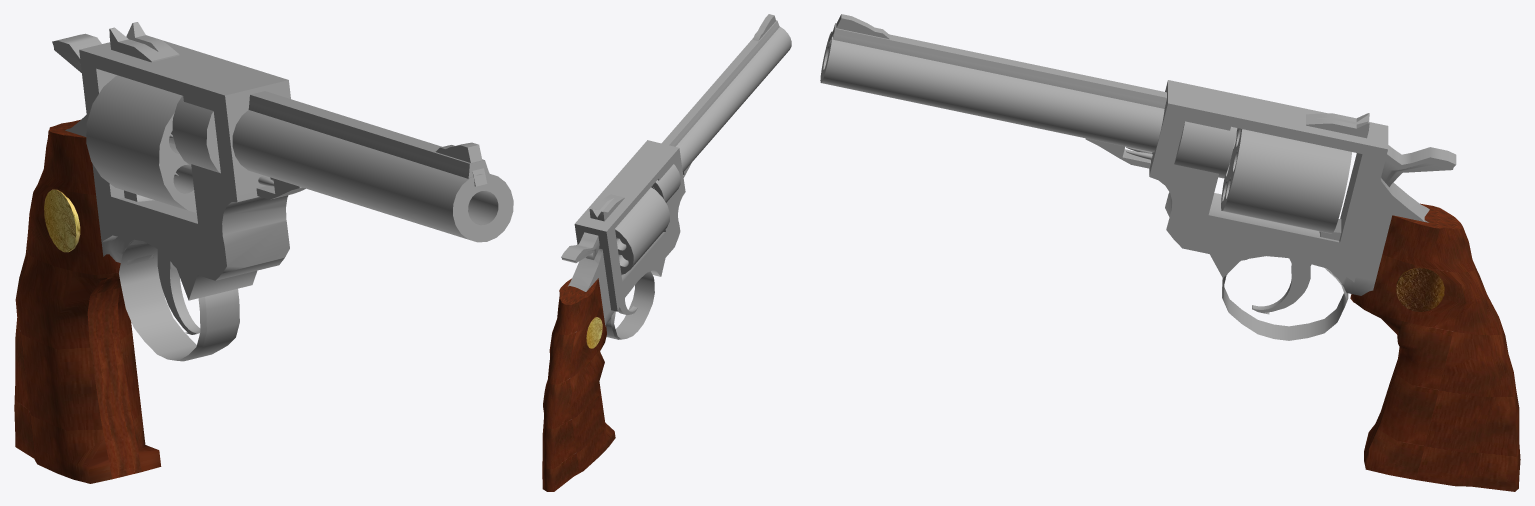
The model's file is gun.fbx.
3 views of the same model, side by side, from view 1: azimuth 30°, elevation 25°; view 2: azimuth 150°, elevation 25°; view 3: azimuth 270°, elevation 25° (orthographic). The views are drawn at different scales.
Parts seen in each view (by area): view 1: GHandle, GBody4, GNeck, GMagazine, GHandCover, GNeckHead, GNeckArmor, pCylinder27, GAiming, GTrigger, GBody5, GTrigger1 (+2 smaller); view 2: GHandle, GBody4, GNeck, GMagazine, GNeckHead, GHandCover, GBody5, GTrigger1, GNeckArmor, GAiming, pCylinder27; view 3: GHandle, GBody4, GNeck, GMagazine, GNeckHead, GBody5, GNeckArmor, GHandCover, GTrigger1, pCylinder27, GAiming, GTrigger.
Part boxes in pixels (bbox=[...]): GHandle: bbox=[14, 119, 161, 483]; GBody4: bbox=[79, 40, 290, 300]; GNeck: bbox=[232, 110, 513, 242]; GMagazine: bbox=[86, 75, 196, 212]; GHandCover: bbox=[119, 240, 239, 361]; GNeckHead: bbox=[248, 91, 489, 178]; GNeckArmor: bbox=[172, 95, 220, 173]; pCylinder27: bbox=[44, 189, 80, 252]; GAiming: bbox=[109, 22, 179, 62]; GTrigger: bbox=[157, 249, 200, 334]; GBody5: bbox=[65, 115, 154, 264]; GTrigger1: bbox=[52, 33, 101, 72]; GHandle: bbox=[542, 278, 615, 491]; GBody4: bbox=[574, 140, 685, 311]; GNeck: bbox=[651, 26, 791, 189]; GMagazine: bbox=[615, 187, 669, 274]; GNeckHead: bbox=[661, 20, 779, 146]; GHandCover: bbox=[606, 271, 654, 339]; GBody5: bbox=[568, 248, 621, 326]; GTrigger1: bbox=[561, 232, 599, 263]; GNeckArmor: bbox=[652, 164, 680, 202]; GAiming: bbox=[589, 194, 624, 221]; pCylinder27: bbox=[586, 317, 602, 348]; GHandle: bbox=[1350, 203, 1520, 491]; GBody4: bbox=[1149, 80, 1388, 282]; GNeck: bbox=[820, 31, 1164, 152]; GMagazine: bbox=[1221, 128, 1351, 233]; GNeckHead: bbox=[832, 23, 1166, 108]; GBody5: bbox=[1319, 177, 1429, 295]; GNeckArmor: bbox=[1174, 121, 1237, 178]; GHandCover: bbox=[1222, 268, 1348, 340]; GTrigger1: bbox=[1381, 145, 1456, 187]; pCylinder27: bbox=[1396, 267, 1444, 311]; GAiming: bbox=[1306, 113, 1369, 138]; GTrigger: bbox=[1252, 258, 1311, 314].
Size of the model in its own units: 3.98 by 21.36 by 28.68.
3 materials, 2 textured.
